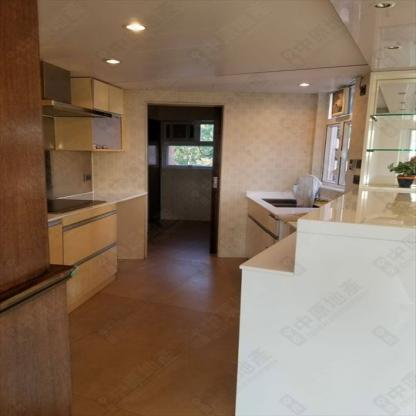Cupboard: (45, 203, 117, 306)
Exhaust Hood: (40, 60, 112, 119)
Sink: (262, 198, 317, 208)
Stove: (45, 197, 108, 214)
